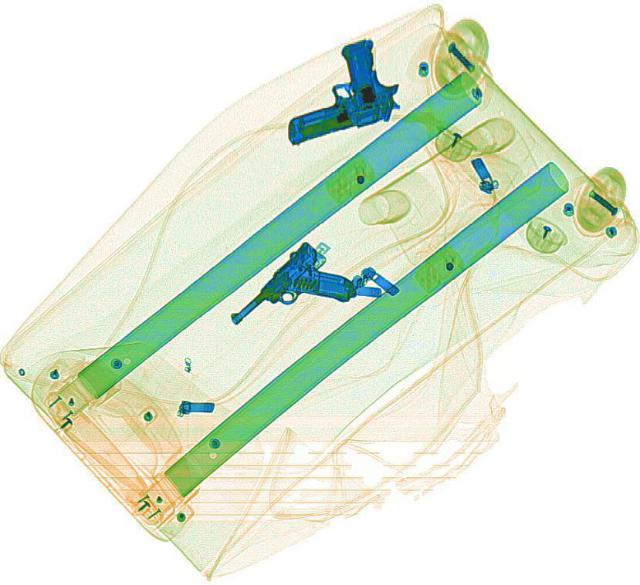Gun: (222, 239, 366, 360), (257, 32, 408, 146)
